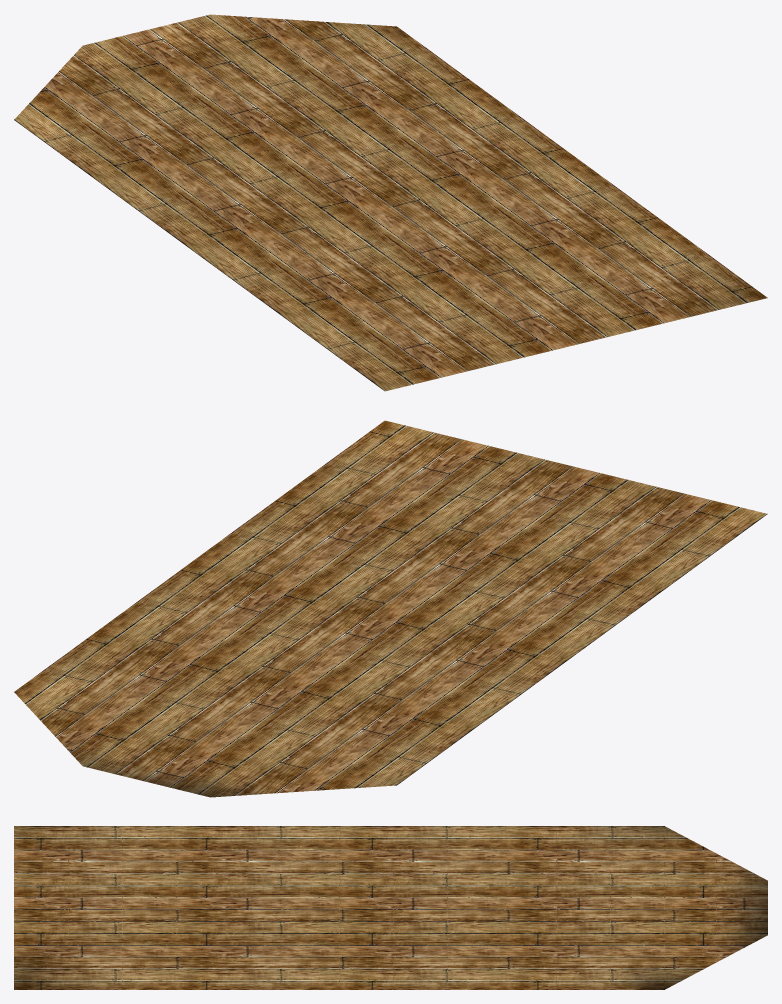
Rendered from LAKETOWN_PUB_PS_PUB_FLOOR83837.fbx.
3 views of the same model, one above another, from view 1: azimuth 30°, elevation 25°; view 2: azimuth 150°, elevation 25°; view 3: azimuth 270°, elevation 25° (orthographic). The views are drawn at different scales.
Parts seen in each view (by area): view 1: LAKETOWN_PUB_PS_PUB_FLOOR83837; view 2: LAKETOWN_PUB_PS_PUB_FLOOR83837; view 3: LAKETOWN_PUB_PS_PUB_FLOOR83837.
Part boxes in pixels (bbox=[...]): LAKETOWN_PUB_PS_PUB_FLOOR83837: bbox=[14, 14, 767, 391]; LAKETOWN_PUB_PS_PUB_FLOOR83837: bbox=[14, 420, 767, 797]; LAKETOWN_PUB_PS_PUB_FLOOR83837: bbox=[14, 826, 767, 989].
Size of the model in its own units: 51185 by 0.0162 by 99521.
Materials: 1 (1 with a texture image).
